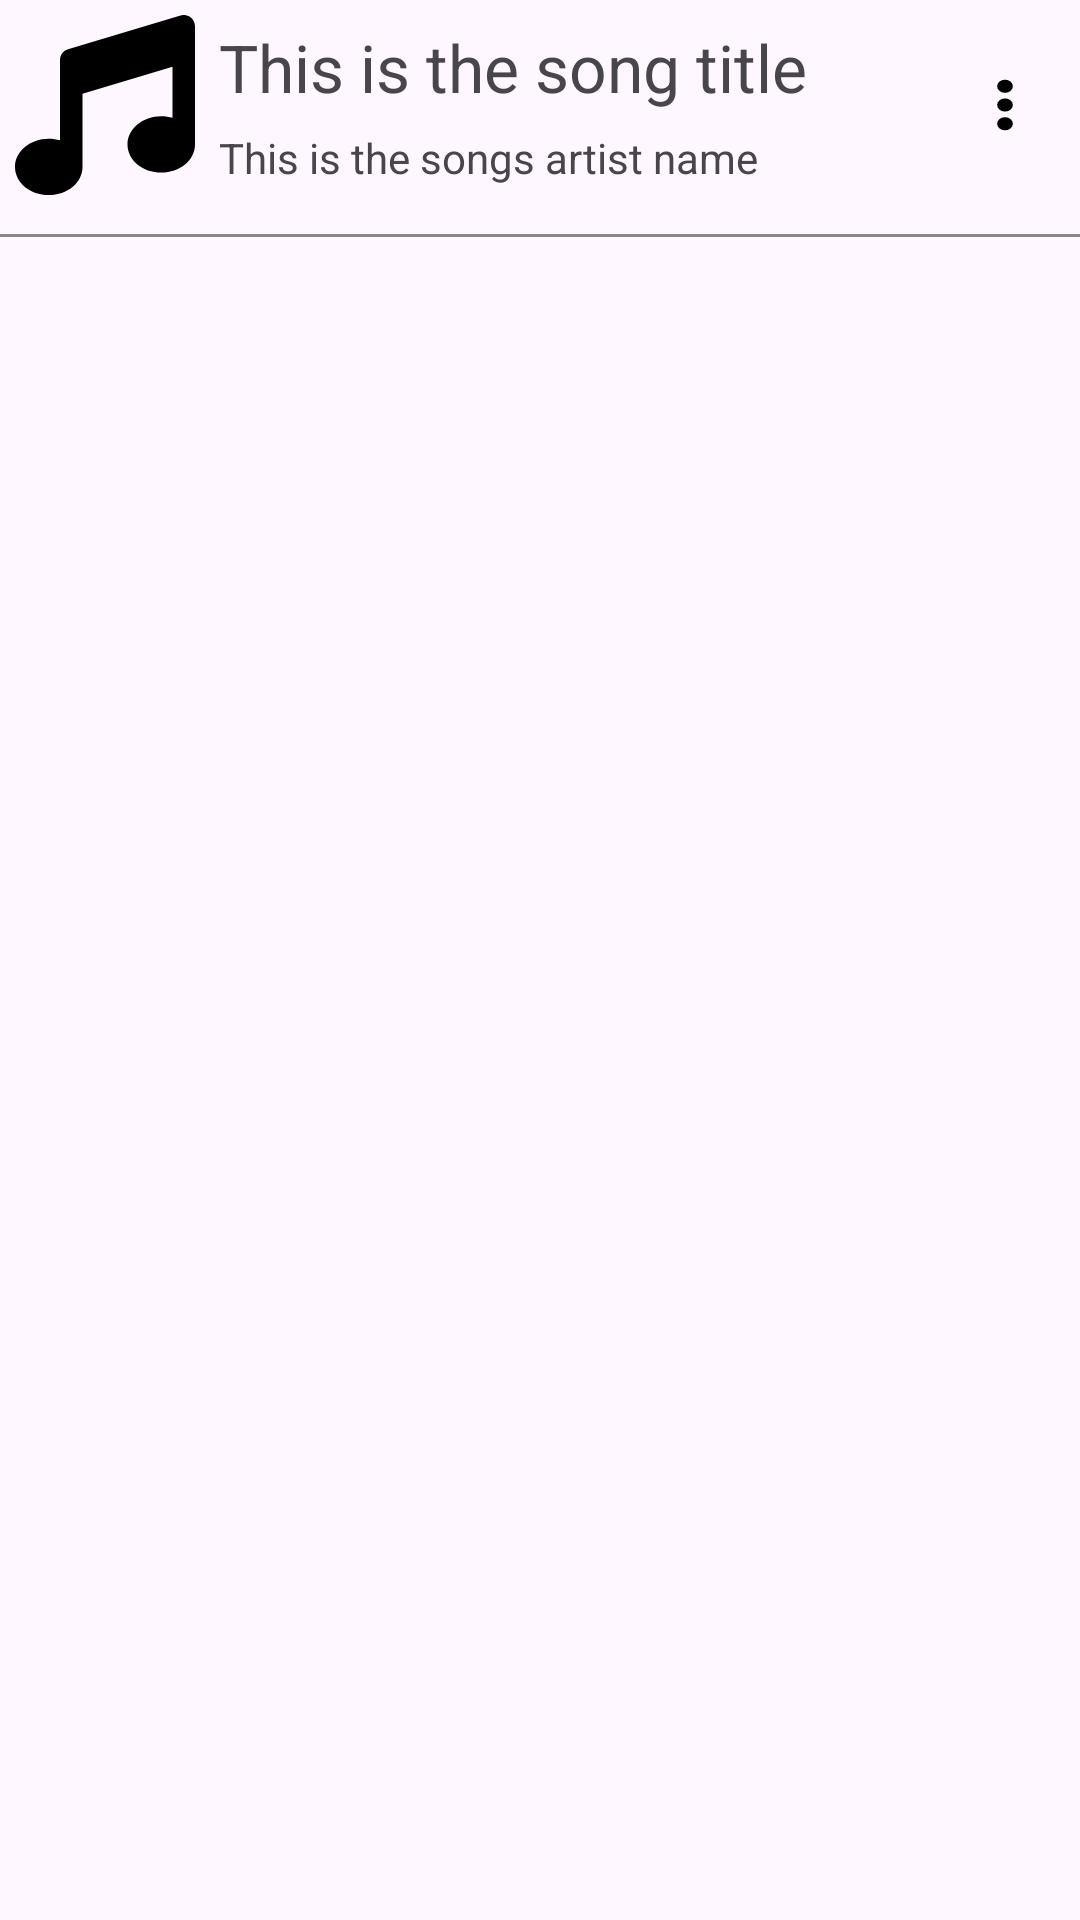

Where to tap for icons on this 1080w x 1920h app screen, as (x,y):
this is the three dot button in bottom sheet: (1005,105)
